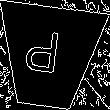P_S: (29, 29, 69, 84)
